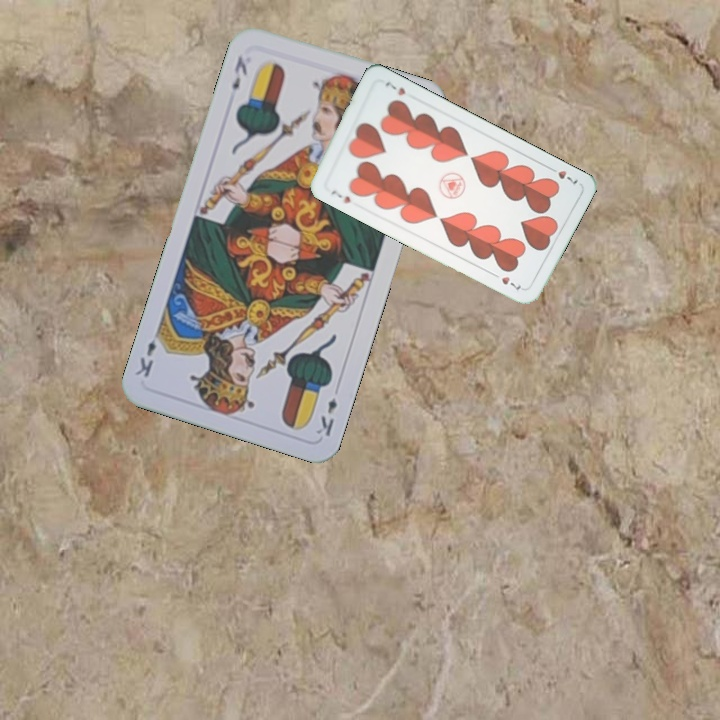EK: (312, 393, 340, 439), (227, 51, 250, 93)
H7: (544, 162, 581, 188), (327, 185, 353, 206)
